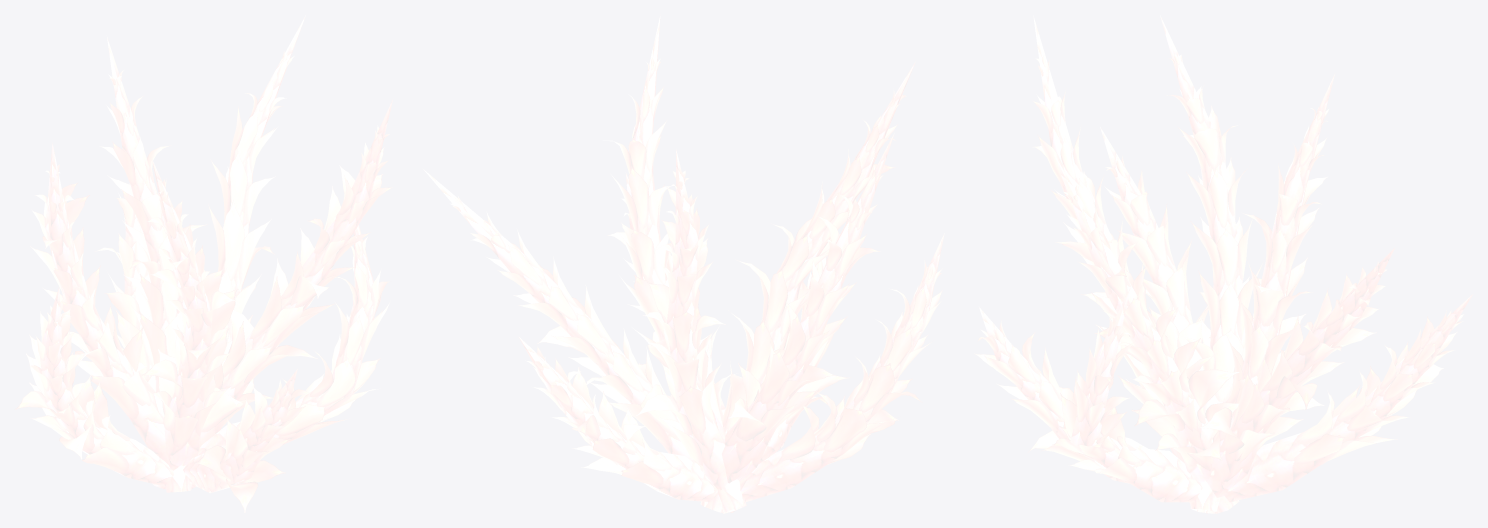
3 renders of one model, left to right at view 1: azimuth 30°, elevation 25°; view 2: azimuth 150°, elevation 25°; view 3: azimuth 270°, elevation 25°, orthographic. The views are drawn at different scales.
Parts seen in each view (by area): view 1: SM_SpikeyPlant_01_LOD0; view 2: SM_SpikeyPlant_01_LOD0; view 3: SM_SpikeyPlant_01_LOD0.
Part boxes in pixels (bbox=[...]): SM_SpikeyPlant_01_LOD0: bbox=[14, 15, 392, 512]; SM_SpikeyPlant_01_LOD0: bbox=[423, 14, 944, 513]; SM_SpikeyPlant_01_LOD0: bbox=[974, 15, 1472, 513].
Size of the model in its own units: 2.6 by 2.62 by 2.69.
Materials: 1 (1 with a texture image).
